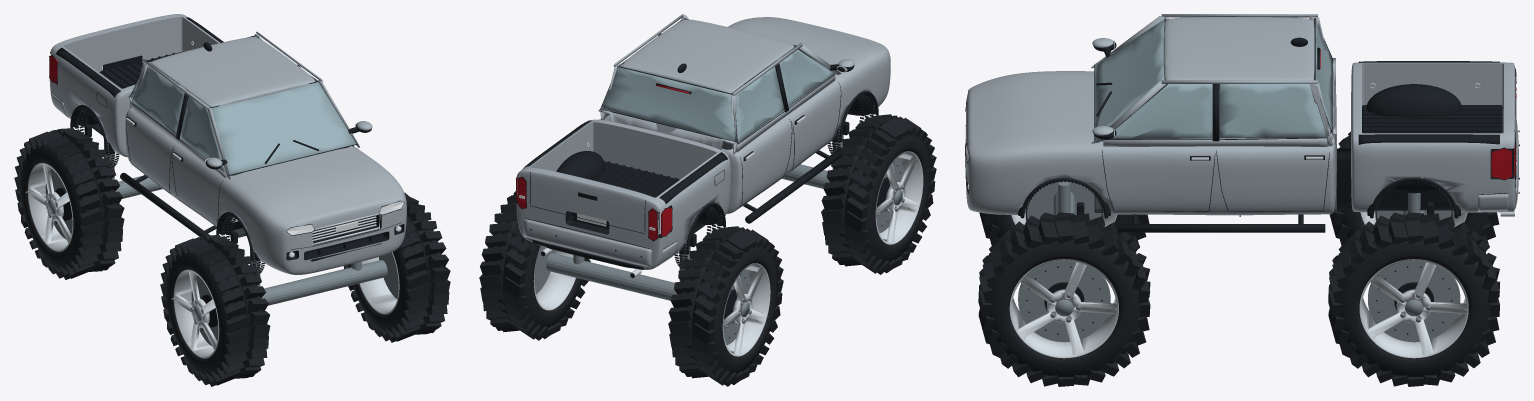
The model's file is monster.fbx.
3 views of the same model, side by side, from view 1: azimuth 30°, elevation 25°; view 2: azimuth 150°, elevation 25°; view 3: azimuth 270°, elevation 25° (orthographic). The views are drawn at different scales.
Visible parts, largest first — view 1: Body, Wheel_RL, Wheel_FL, Wheel_FR; view 2: Body, Wheel_RL, Wheel_FL, Wheel_RR, Damage_Rear_Bumper; view 3: Body, Wheel_RR, Wheel_FR, Wheel_FL, Wheel_RL, Damage_Rear_Bumper.
Part boxes in pixels (box(x1,y1,x2,y2)): Body: box(49, 14, 406, 305); Wheel_RL: box(14, 128, 124, 279); Wheel_FL: box(160, 235, 270, 386); Wheel_FR: box(343, 192, 450, 342); Body: box(516, 14, 890, 300); Wheel_RL: box(668, 226, 783, 386); Wheel_FL: box(821, 114, 936, 274); Wheel_RR: box(479, 191, 590, 340); Damage_Rear_Bumper: box(523, 218, 677, 267); Body: box(965, 14, 1519, 232); Wheel_RR: box(1328, 212, 1499, 386); Wheel_FR: box(978, 212, 1150, 386); Wheel_FL: box(979, 182, 1149, 248); Wheel_RL: box(1329, 131, 1499, 248); Damage_Rear_Bumper: box(1478, 120, 1518, 211).
Size of the model in its own units: 3.2 by 3.23 by 5.69.
